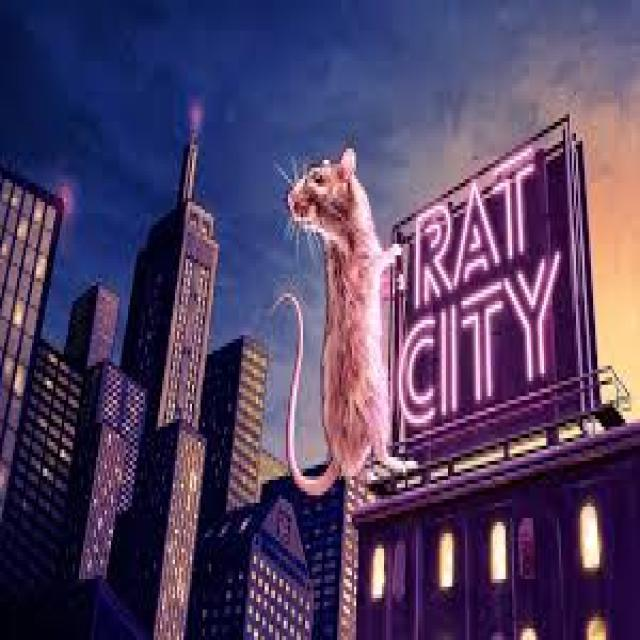Rat: (256, 138, 403, 510)
